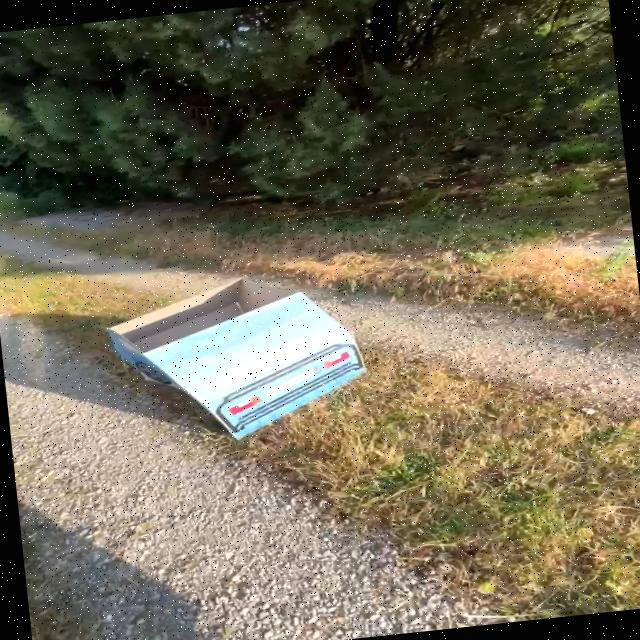blue_car: (47, 228, 451, 476)
